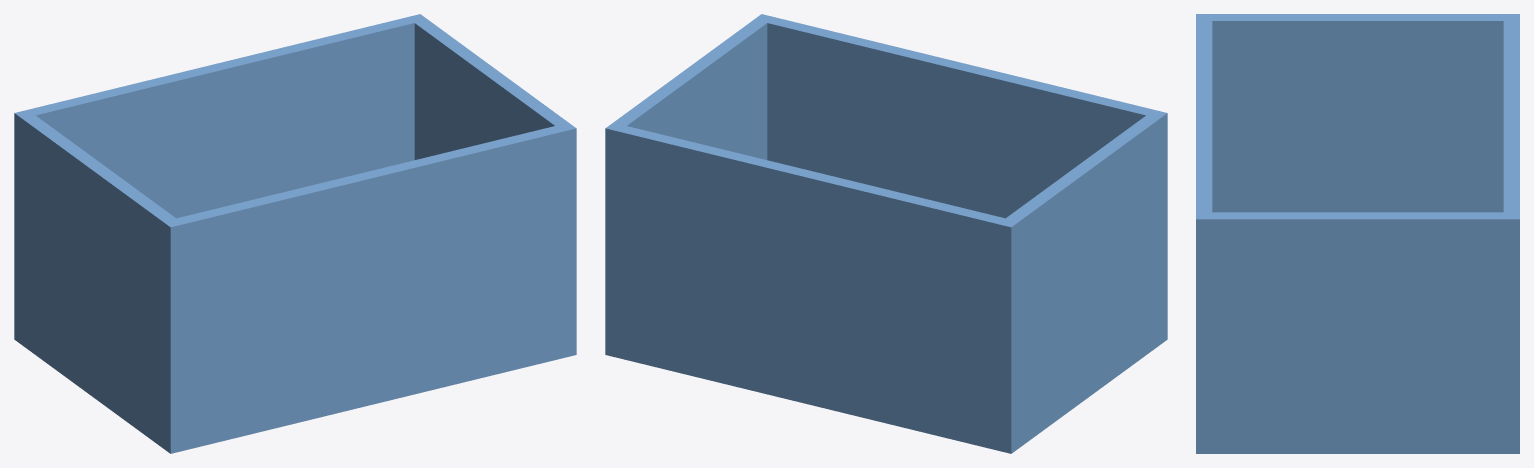
The model's file is room.dae.
The picture shows the model from 3 angles, left to right: view 1: azimuth 30°, elevation 25°; view 2: azimuth 150°, elevation 25°; view 3: azimuth 270°, elevation 25°; orthographic projection. The views are drawn at different scales.
Parts seen in each view (by area): view 1: South, North, West, East, Floor; view 2: North, South, West, East, Floor; view 3: East, West, North, South, Floor.
Part boxes in pixels (bbox=[...]): South: bbox=[163, 122, 576, 439]; North: bbox=[14, 14, 427, 330]; West: bbox=[22, 115, 175, 433]; East: bbox=[414, 20, 568, 159]; Floor: bbox=[14, 325, 576, 453]; North: bbox=[605, 122, 1018, 439]; South: bbox=[754, 14, 1167, 330]; West: bbox=[1006, 115, 1159, 433]; East: bbox=[613, 20, 767, 159]; Floor: bbox=[605, 325, 1167, 453]; East: bbox=[1212, 212, 1503, 439]; West: bbox=[1212, 14, 1503, 212]; North: bbox=[1503, 14, 1519, 439]; South: bbox=[1196, 14, 1212, 439]; Floor: bbox=[1196, 439, 1519, 453].
Size of the model in its own units: 600 by 400 by 320.
1 material, 1 textured.
